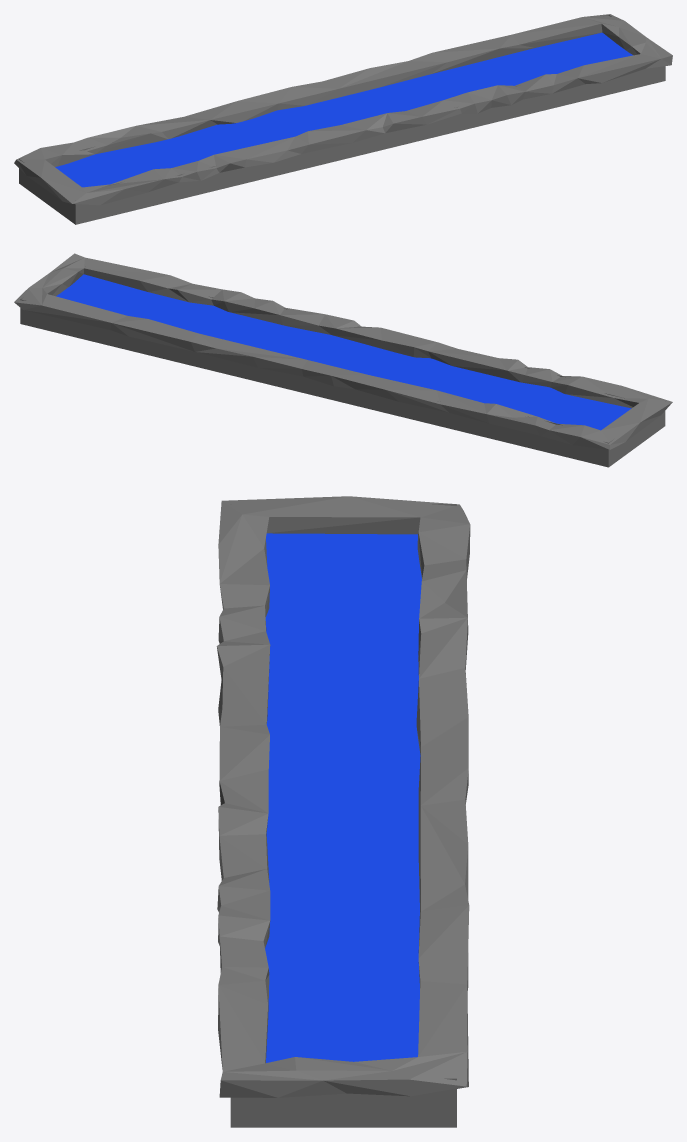
File: castle_pond_a.FBX
The picture shows the model from 3 angles, top to bottom: view 1: azimuth 30°, elevation 25°; view 2: azimuth 150°, elevation 25°; view 3: azimuth 270°, elevation 25°; orthographic projection. The views are drawn at different scales.
Visible parts, largest first — view 1: castle_pond_a; view 2: castle_pond_a; view 3: castle_pond_a.
Boxes of the visible parts, left/top/right/bottom form: castle_pond_a: left=14, top=14, right=672, bottom=224; castle_pond_a: left=14, top=253, right=672, bottom=467; castle_pond_a: left=216, top=496, right=470, bottom=1127.
Size of the model in its own units: 16.15 by 0.7073 by 2.96.
